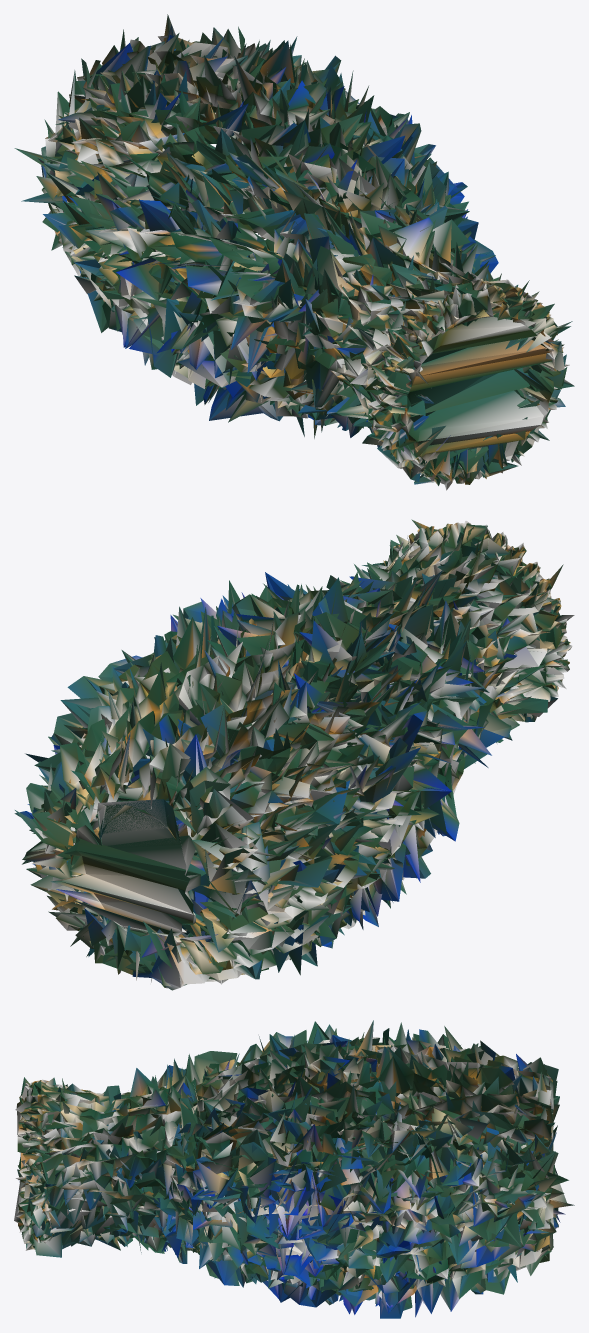
The model's file is lamp_shade_10_final500.obj.
3 renders of one model, top to bottom at view 1: azimuth 30°, elevation 25°; view 2: azimuth 150°, elevation 25°; view 3: azimuth 270°, elevation 25°, orthographic. The views are drawn at different scales.
Size of the model in its own units: 1.03 by 1.02 by 1.9.
